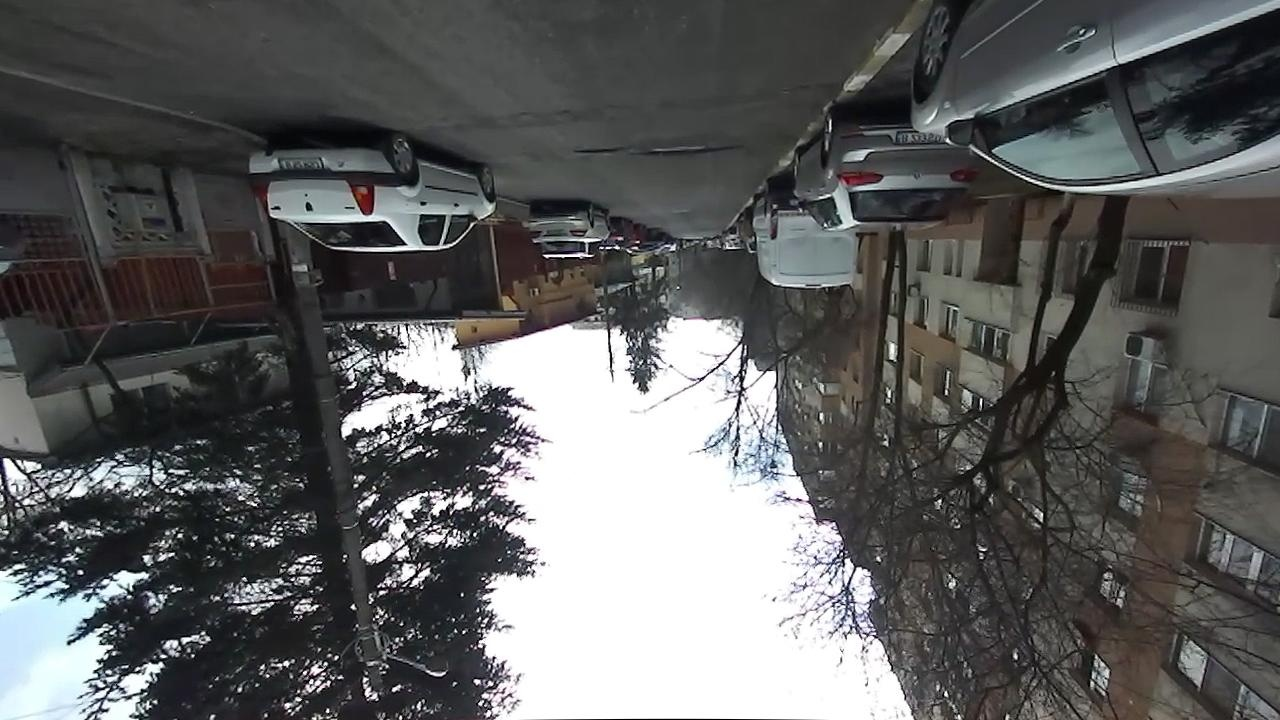pothole: (638, 138, 737, 157), (574, 146, 622, 156)
